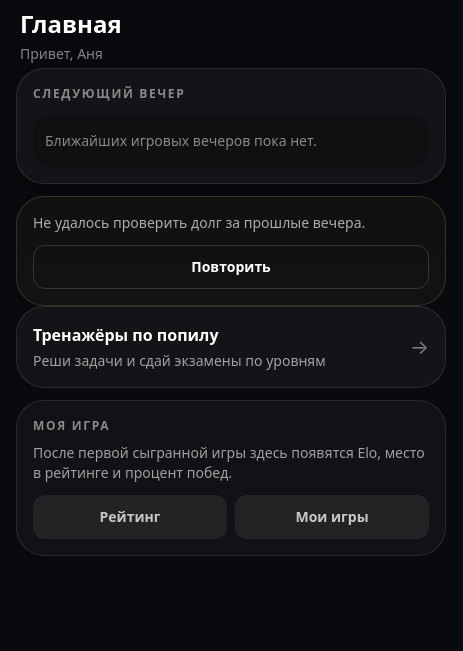
Player Cabinet Главная — ближайший вечер, ошибки запроса › makes an unknown debt explicit and restores the confirmed amount through retry
Expected: the message with test id "player-home-debt-error" shows "Не удалось проверить долг", [33,213,365,232]
Click the button "Повторить" at (231, 267), box [33,245,429,289]
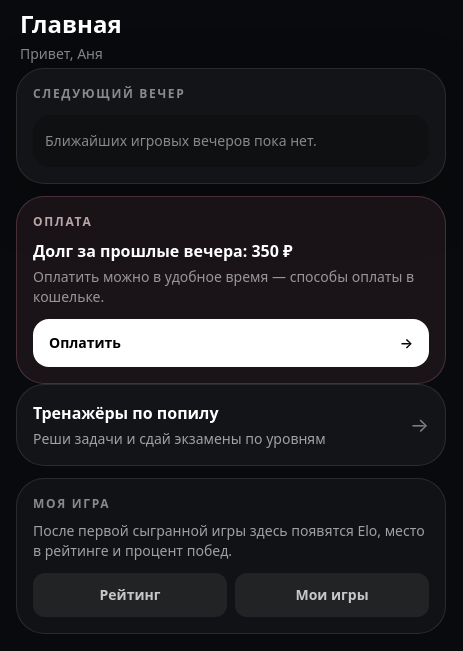
Expected: the element with test id "player-home-debt" shows "350 ₽", [252,240,293,262]
Expected: the message with test id "player-home-debt-error" is gone
